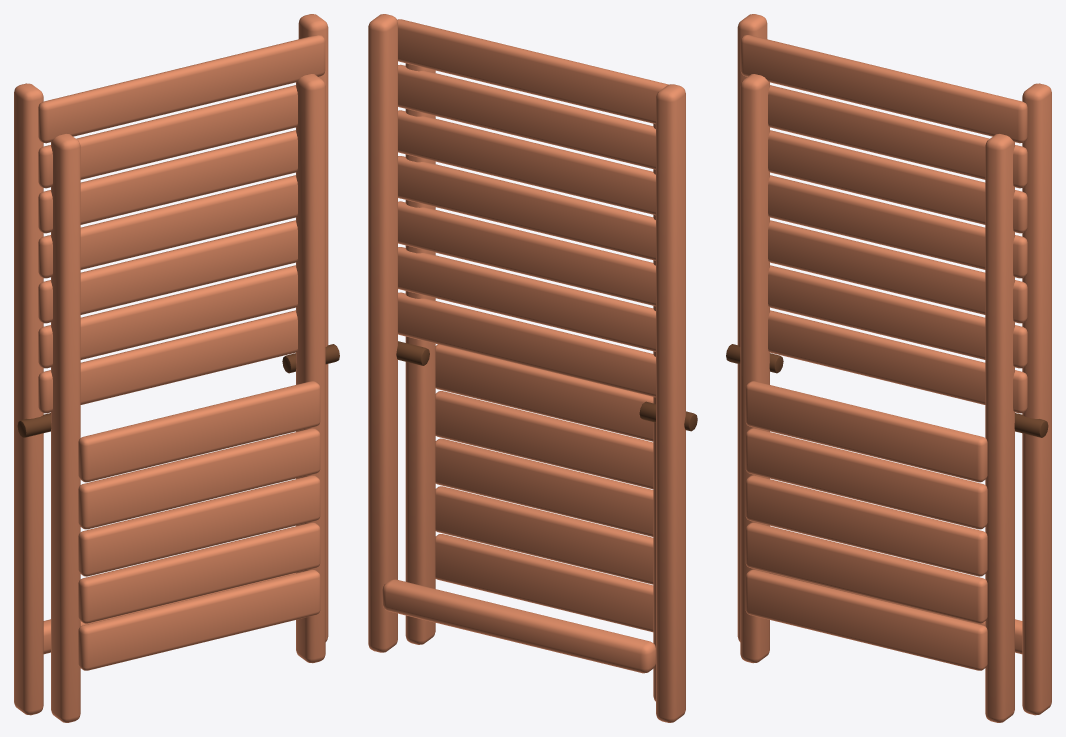
File: cadeira_dobravel_madeira_fechada.glb
The picture shows the model from 3 angles, left to right: view 1: azimuth 30°, elevation 25°; view 2: azimuth 150°, elevation 25°; view 3: azimuth 330°, elevation 25°; orthographic projection.
Parts seen in each view (by area): view 1: cadeira_dobravel_madeira_fechada; view 2: cadeira_dobravel_madeira_fechada; view 3: cadeira_dobravel_madeira_fechada.
Part boxes in pixels (x1,y1,x2,y2): cadeira_dobravel_madeira_fechada: (14,14,339,722); cadeira_dobravel_madeira_fechada: (368,14,697,722); cadeira_dobravel_madeira_fechada: (726,14,1051,722).
Size of the model in its own units: 0.475 by 0.9 by 0.119.
1 material, 1 textured.
